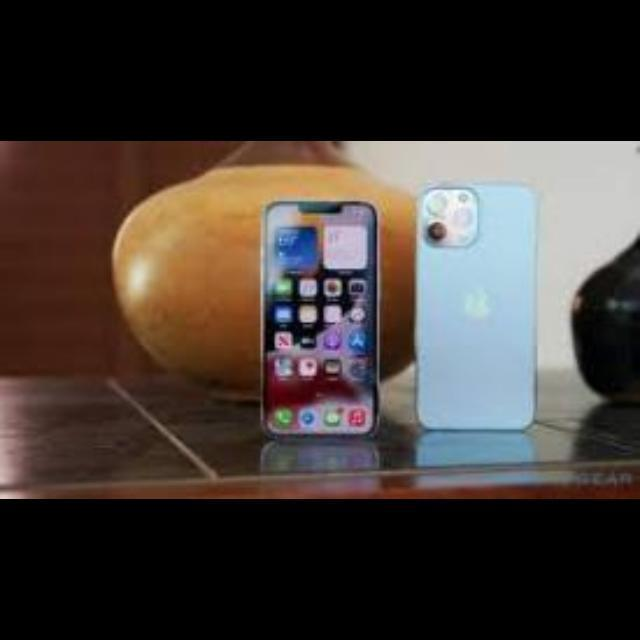phone: (415, 180, 540, 434), (260, 199, 379, 440)
